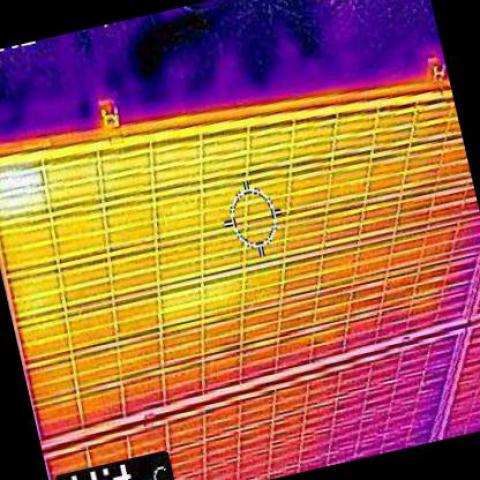fault: (0, 154, 44, 208)
